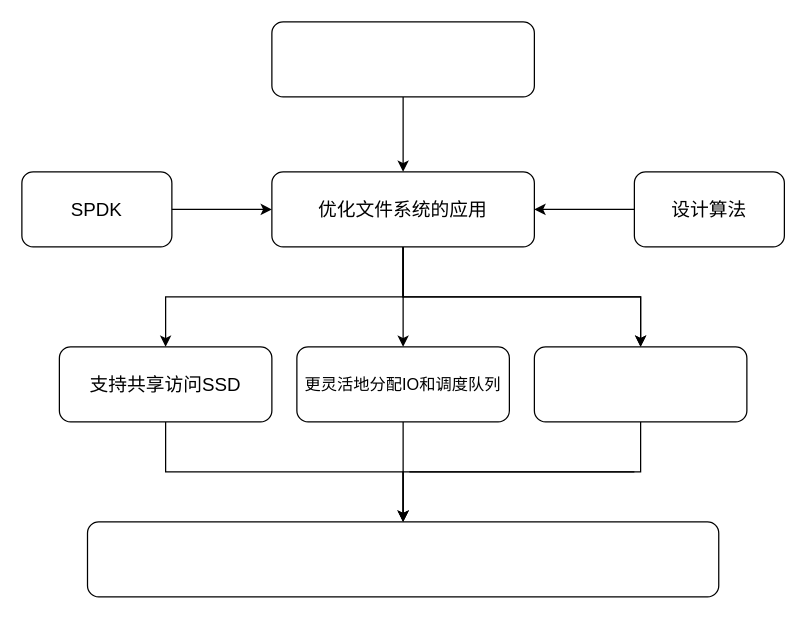
This 806x619 diagram has some shape labels left out. The shapes that lost their labels are listed below. From the top down, each one's centre as x and y in pixels, then its label:
At point 402,59: "通过FUSE搭建文件系统".
At point 640,384: "兼顾调度的效率和公平性".
At point 402,559: "测试".
